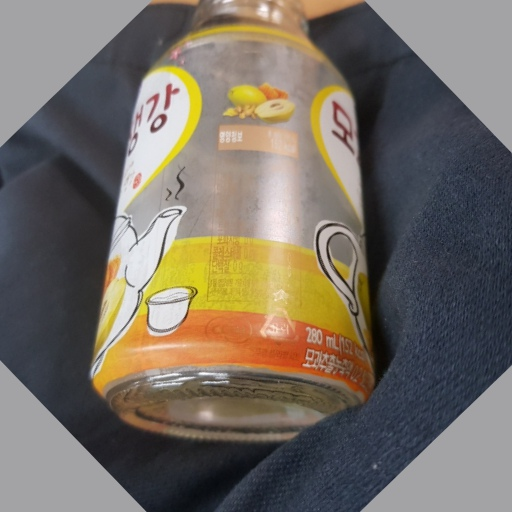Glass_4: (90, 1, 380, 444)
